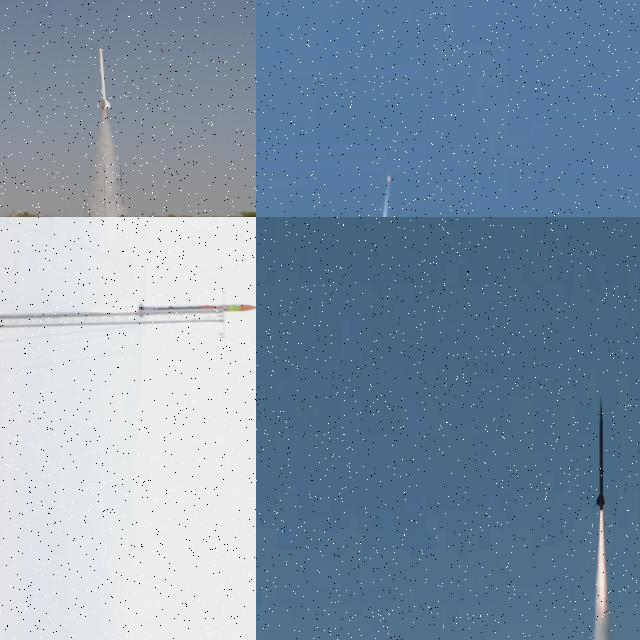Rocket: (138, 303, 256, 317), (596, 397, 606, 512), (97, 48, 111, 110), (387, 172, 391, 183)
